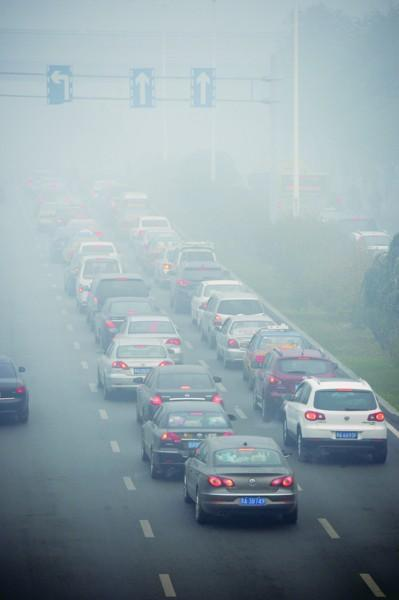car: (184, 436, 298, 526), (281, 375, 388, 464), (140, 401, 236, 479), (252, 347, 338, 421), (133, 365, 226, 425), (95, 339, 176, 400), (240, 324, 306, 392), (91, 296, 166, 355), (108, 316, 183, 372), (198, 292, 267, 349), (212, 315, 279, 368), (82, 274, 149, 326), (72, 256, 130, 315), (166, 262, 226, 314), (62, 252, 114, 301), (189, 280, 245, 325), (77, 241, 123, 293), (142, 233, 190, 277), (173, 243, 217, 288), (1, 354, 29, 424), (128, 215, 173, 256), (154, 249, 200, 289), (49, 226, 88, 265), (63, 228, 103, 266), (132, 228, 174, 263), (121, 191, 151, 225), (36, 203, 66, 231)
